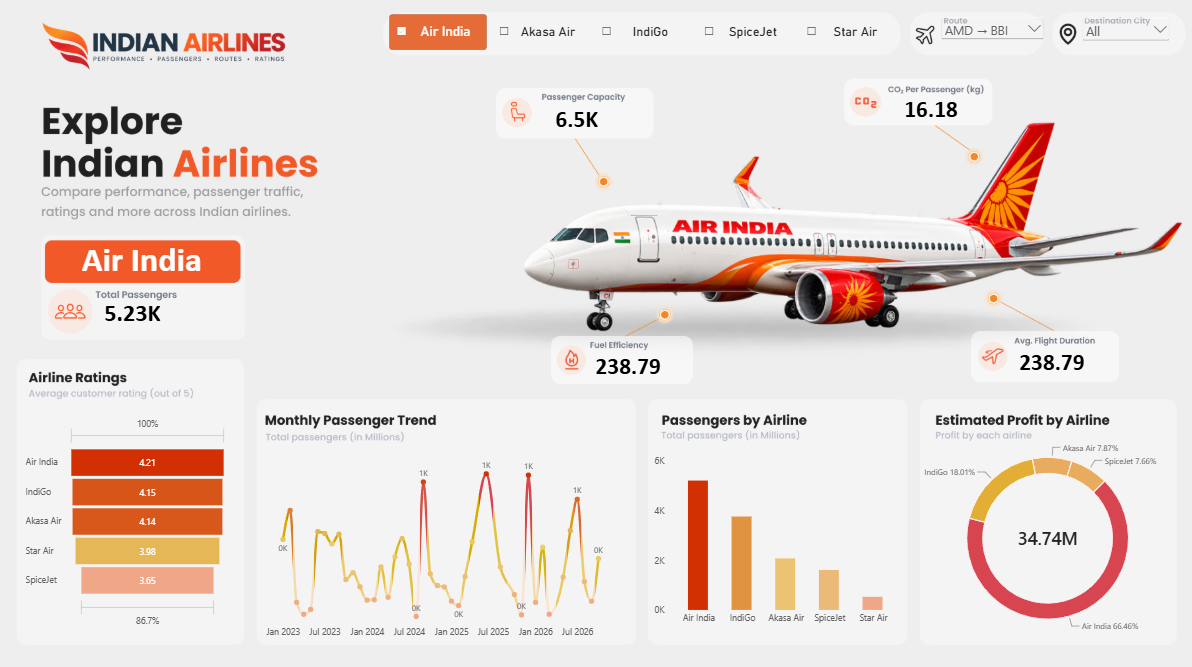

What the dashboard file says about the page in this screenshot:
{"tool":"powerbi","page":{"name":"Page 1","canvas":[1920,1080],"ordinal":0},"visuals":[{"type":"funnel","fields":{"Category":["Aircraft_Images.Airline"],"Y":["Avg(Flight_Data.Customer_Rating)"]},"box":[28.8,654.5,354,368.4],"z":0},{"type":"clusteredColumnChart","fields":{"Category":["Aircraft_Images.Airline"],"Y":["Measure_Table.Total passenger"]},"box":[1033.3,716.3,428.1,306.7],"z":1000},{"type":"lineChart","fields":{"Category":["Flight_Data.Actual_Departure.Variation.Date Hierarchy.Year","Flight_Data.Actual_Departure.Variation.Date Hierarchy.Quarter","Flight_Data.Actual_Departure.Variation.Date Hierarchy.Month","Flight_Data.Actual_Departure.Variation.Date Hierarchy.Day"],"Y":["Sum(Flight_Data.Passengers)"]},"box":[411.7,687.5,590.7,356.1],"z":2000},{"type":"donutChart","fields":{"Category":["Aircraft_Images.Airline"],"Y":["Sum(Flight_Data.Estimated_Profit_INR)"]},"box":[1453.2,654.5,450.8,422],"z":3000},{"type":"advancedSlicerVisual","fields":{"Values":["Aircraft_Images.Airline"]},"box":[625.7,26.8,813,57.6],"z":4000},{"type":"image","box":[819.2,146.1,1084.7,444.6],"z":5000},{"type":"cardVisual","fields":{"Data":["Min(Aircraft_Images.Airline)"]},"box":[102.9,384.9,345.8,70],"z":6000},{"type":"cardVisual","fields":{"Data":["Measure_Table.Total passenger"]},"box":[137.9,469.3,345.8,70],"z":7000},{"type":"cardVisual","fields":{"Data":["Measure_Table.seat Capacity"]},"box":[860.4,160.5,345.8,70],"z":8000},{"type":"cardVisual","fields":{"Data":["Measure_Table.CO2 Per Passenger"]},"box":[1418.2,144,345.8,70],"z":9000},{"type":"cardVisual","fields":{"Data":["Measure_Table.Fuel Efficiency"]},"box":[924.2,555.7,345.8,70],"z":10000},{"type":"cardVisual","fields":{"Data":["Measure_Table.Fuel Efficiency"]},"box":[1601,549,205.8,70],"z":11000},{"type":"slicer","fields":{"Values":["Flight_Data.Route"]},"box":[1503.4,26.7,174.8,57.6],"z":12000},{"type":"slicer","fields":{"Values":["Flight_Data.Destination_City"]},"box":[1730,28,150,60],"z":12001}]}

Visuals, with their boxes in screenshot pixels (x1, y1, x2, y2), scaled from the page's 1920x1080 canvas onto the 1192x667 screenshot:
funnel - Aircraft_Images.Airline x Avg(Flight_Data.Customer_Rating): [18, 404, 238, 632]
clusteredColumnChart - Aircraft_Images.Airline x Measure_Table.Total passenger: [642, 442, 907, 632]
lineChart - Flight_Data.Actual_Departure.Variation.Date Hierarchy.Year x Flight_Data.Actual_Departure.Variation.Date Hierarchy.Quarter: [256, 425, 622, 645]
donutChart - Aircraft_Images.Airline x Sum(Flight_Data.Estimated_Profit_INR): [902, 404, 1182, 665]
advancedSlicerVisual - Aircraft_Images.Airline: [388, 17, 893, 52]
image: [509, 90, 1182, 365]
cardVisual - Min(Aircraft_Images.Airline): [64, 238, 279, 281]
cardVisual - Measure_Table.Total passenger: [86, 290, 300, 333]
cardVisual - Measure_Table.seat Capacity: [534, 99, 749, 142]
cardVisual - Measure_Table.CO2 Per Passenger: [880, 89, 1095, 132]
cardVisual - Measure_Table.Fuel Efficiency: [574, 343, 788, 386]
cardVisual - Measure_Table.Fuel Efficiency: [994, 339, 1122, 382]
slicer - Flight_Data.Route: [933, 16, 1042, 52]
slicer - Flight_Data.Destination_City: [1074, 17, 1167, 54]
